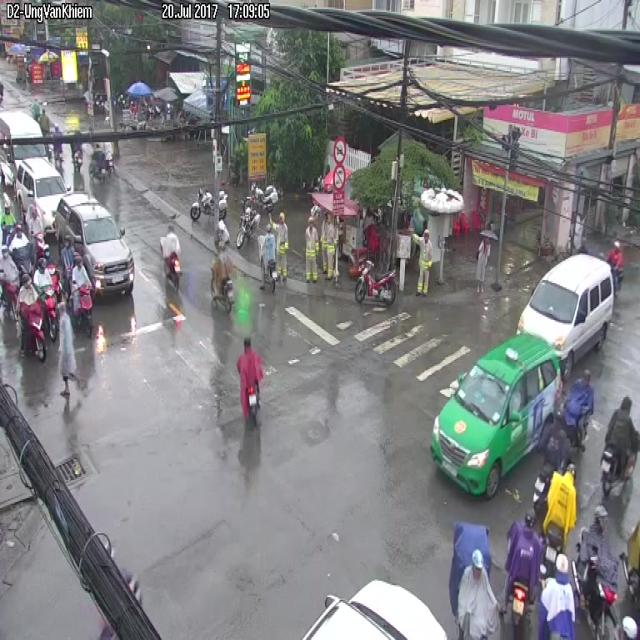traffic-light: (431, 336, 561, 498), (518, 256, 614, 360), (56, 196, 133, 293), (16, 159, 71, 231), (355, 259, 397, 305)
